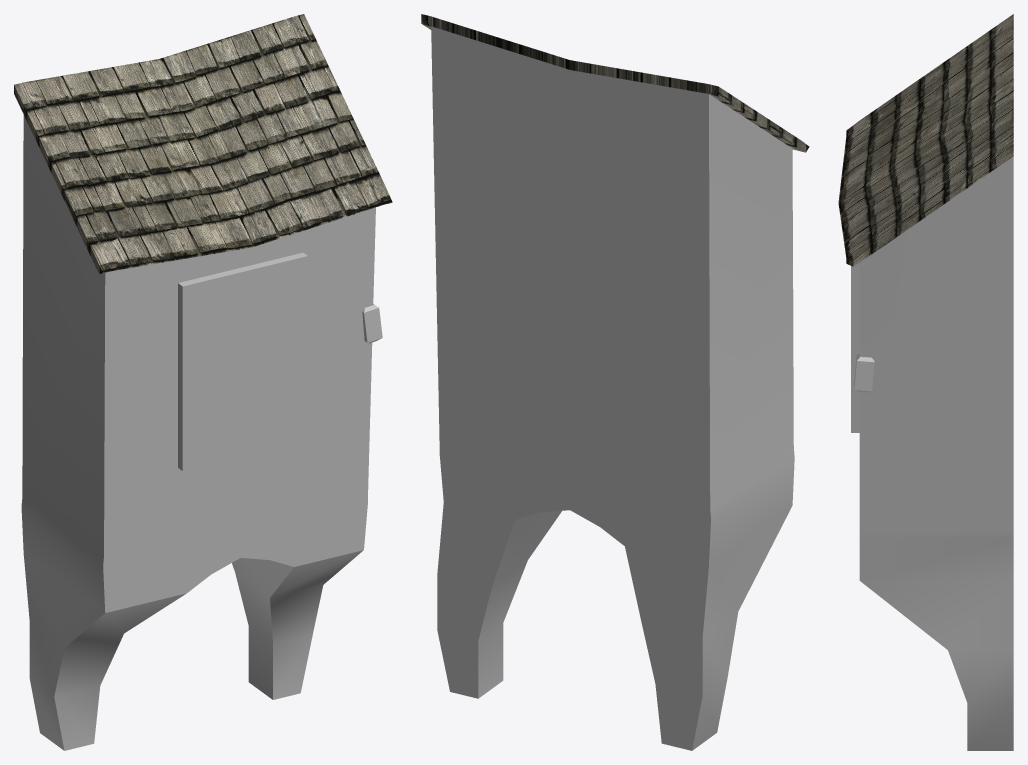
The model's file is balcony_1_lod.fbx.
3 views of the same model, side by side, from view 1: azimuth 30°, elevation 25°; view 2: azimuth 150°, elevation 25°; view 3: azimuth 270°, elevation 25° (orthographic). The views are drawn at different scales.
Visible parts, largest first — view 1: Mesh; view 2: Mesh; view 3: Mesh.
Boxes of the visible parts, bbox=[...] form: Mesh: bbox=[14, 14, 392, 750]; Mesh: bbox=[421, 14, 809, 750]; Mesh: bbox=[838, 14, 1013, 750].
Bounding box in the file's own units: 284 × 612 × 157.
